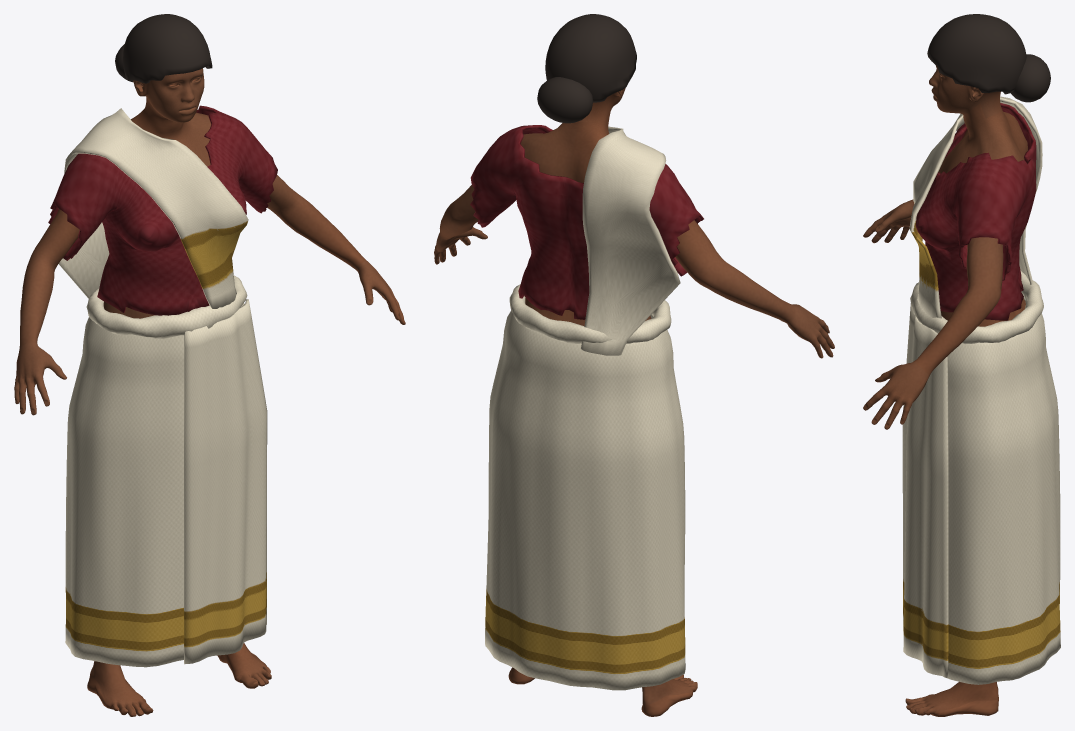
File: villager_woman.fbx
3 views of the same model, side by side, from view 1: azimuth 30°, elevation 25°; view 2: azimuth 150°, elevation 25°; view 3: azimuth 270°, elevation 25° (orthographic). The views are drawn at different scales.
Parts seen in each view (by area): view 1: Mixamo_villager_woman; view 2: Mixamo_villager_woman; view 3: Mixamo_villager_woman.
Part boxes in pixels (x1,y1,x2,y2): Mixamo_villager_woman: (14, 14, 405, 716); Mixamo_villager_woman: (434, 14, 834, 716); Mixamo_villager_woman: (863, 14, 1060, 716).
Size of the model in its own units: 0.9461 by 1.56 by 0.4205.
Materials: 4 (3 with a texture image).
